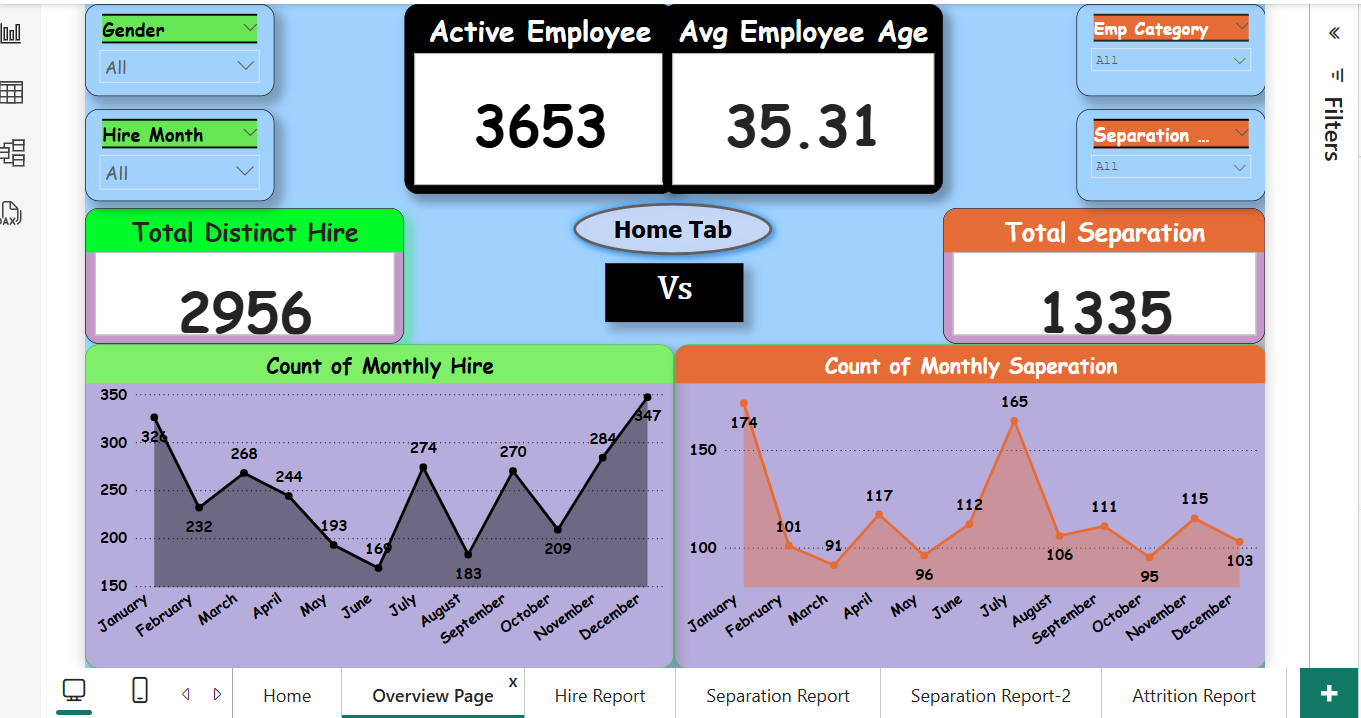

Layout of this report page (visuals, bound fields, positions):
{"tool":"powerbi","page":{"name":"Overview Page","canvas":[1280,720],"ordinal":1},"visuals":[{"type":"cardVisual","title":"Active Employee","fields":{"Data":["Count(Active 2024.Group Person ID)"]},"box":[345.8,0,292.9,206],"z":0},{"type":"cardVisual","title":"Total Distinct Hire","fields":{"Data":["Count(Hiretermination.Group Person ID)"]},"box":[0,221.1,345.8,147.4],"z":1000},{"type":"cardVisual","title":"Total Separation","fields":{"Data":["Count(Hiretermination.Group Person ID)"]},"box":[929.8,221.1,349.6,147.4],"z":2000},{"type":"cardVisual","title":"Avg Employee Age","fields":{"Data":["Avg(Active 2024.Age)"]},"box":[625.5,0,304.3,206],"z":3000},{"type":"lineChart","title":"Count of Monthly Hire","fields":{"Category":["Hiretermination.Hire Date.Variation.Date Hierarchy.Month","Hiretermination.Hire Date"],"Y":["CountNonNull(Hiretermination.Employee Status)"]},"box":[0,368.5,638.7,351.5],"z":4000},{"type":"lineChart","title":"Count of Monthly Saperation","fields":{"Category":["Hiretermination.Hire Date.Variation.Date Hierarchy.Month","Hiretermination.Hire Date"],"Y":["CountNonNull(Hiretermination.Employee Status)"]},"box":[639.7,368.5,641.7,351.9],"z":5000},{"type":"textbox","box":[564.7,281.5,149.5,63.6],"z":6000},{"type":"slicer","fields":{"Values":["Hiretermination.Gender"]},"box":[0,0,205.2,100.2],"z":7000},{"type":"slicer","fields":{"Values":["Table1.Hire Date.Variation.Date Hierarchy.Month"]},"box":[0,114.5,205.2,100.2],"z":8000},{"type":"slicer","fields":{"Values":["Active 2024.Emp Cat"]},"box":[1075.3,0,205.2,100.2],"z":9000},{"type":"slicer","fields":{"Values":["Table1.Termination Date.Variation.Date Hierarchy.Year"]},"box":[1075.3,114.5,205.2,100.2],"z":10000},{"type":"actionButton","box":[520.1,206.8,233.8,74.8],"z":11000}]}

Visuals, with their boxes on the page's 1280x720 design canvas (x1, y1, x2, y2). These are canvas units, not pixel positions in the 1361x718 screenshot, which may show the page scaled, cropped or inside an application window:
"Active Employee" cardVisual: (346, 0, 639, 206)
"Total Distinct Hire" cardVisual: (0, 221, 346, 368)
"Total Separation" cardVisual: (930, 221, 1279, 368)
"Avg Employee Age" cardVisual: (626, 0, 930, 206)
"Count of Monthly Hire" lineChart: (0, 368, 639, 720)
"Count of Monthly Saperation" lineChart: (640, 368, 1281, 720)
textbox: (565, 282, 714, 345)
slicer - Hiretermination.Gender: (0, 0, 205, 100)
slicer - Table1.Hire Date.Variation.Date Hierarchy.Month: (0, 114, 205, 215)
slicer - Active 2024.Emp Cat: (1075, 0, 1280, 100)
slicer - Table1.Termination Date.Variation.Date Hierarchy.Year: (1075, 114, 1280, 215)
actionButton: (520, 207, 754, 282)
